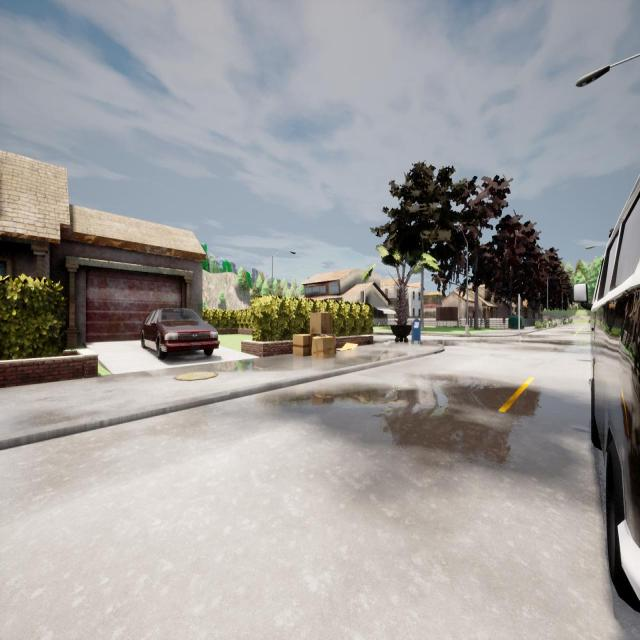Vehicle: (573, 171, 640, 612), (139, 306, 221, 361)
traffic_light: (360, 291, 364, 303), (518, 297, 522, 309)
